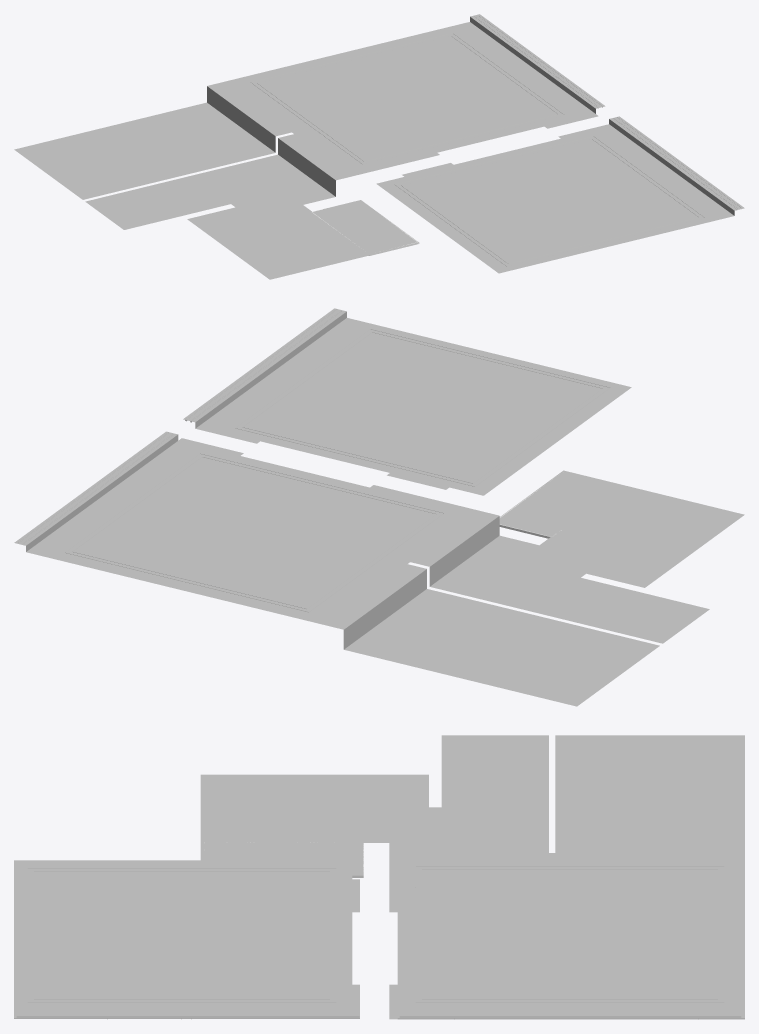
File: Ceiling.fbx
3 views of the same model, one above another, from view 1: azimuth 30°, elevation 25°; view 2: azimuth 150°, elevation 25°; view 3: azimuth 270°, elevation 25° (orthographic). The views are drawn at different scales.
Visible parts, largest first — view 1: Ceiling.001; view 2: Ceiling.001; view 3: Ceiling.001.
Boxes of the visible parts, bbox=[...] form: Ceiling.001: bbox=[14, 14, 744, 279]; Ceiling.001: bbox=[14, 308, 744, 706]; Ceiling.001: bbox=[14, 735, 744, 1019].
Bounding box in the file's own units: 803 × 39.03 × 791.
